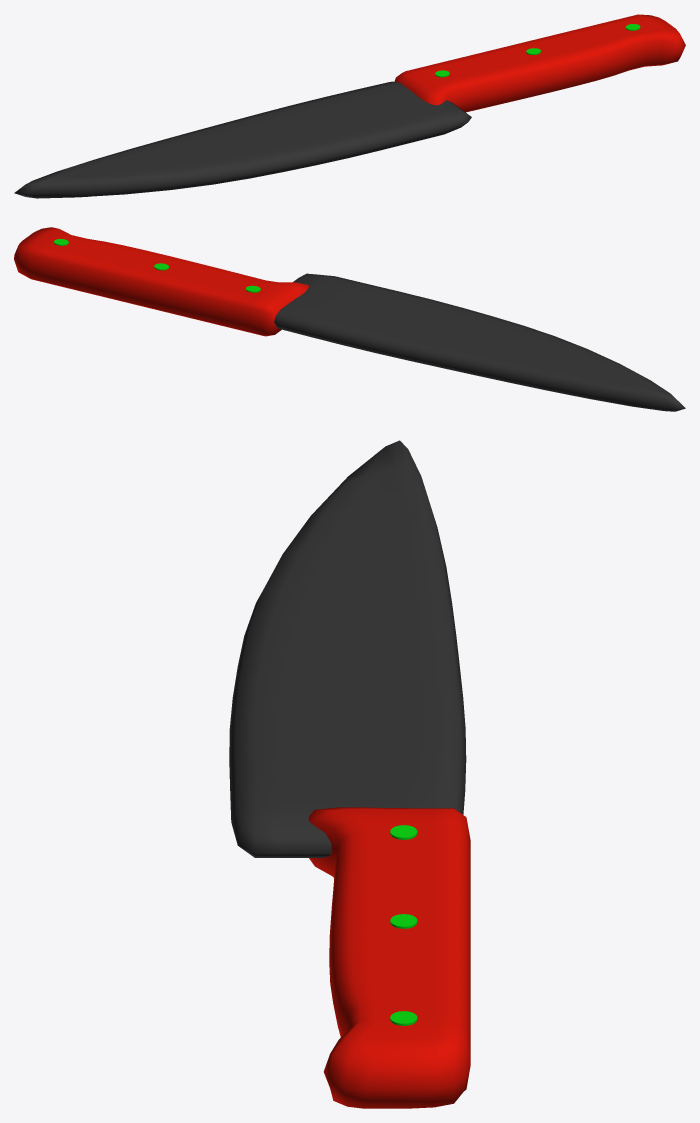
The model's file is cuchillo.fbx.
3 renders of one model, top to bottom at view 1: azimuth 30°, elevation 25°; view 2: azimuth 150°, elevation 25°; view 3: azimuth 270°, elevation 25°, orthographic. The views are drawn at different scales.
Visible parts, largest first — view 1: EXP_Cuchillo; view 2: EXP_Cuchillo; view 3: EXP_Cuchillo.
Boxes of the visible parts, left/top/right/bottom form: EXP_Cuchillo: left=14, top=14, right=685, bottom=198; EXP_Cuchillo: left=14, top=227, right=685, bottom=411; EXP_Cuchillo: left=229, top=440, right=470, bottom=1108.
Bounding box in the file's own units: 0.6133 × 0.0286 × 0.0971.
